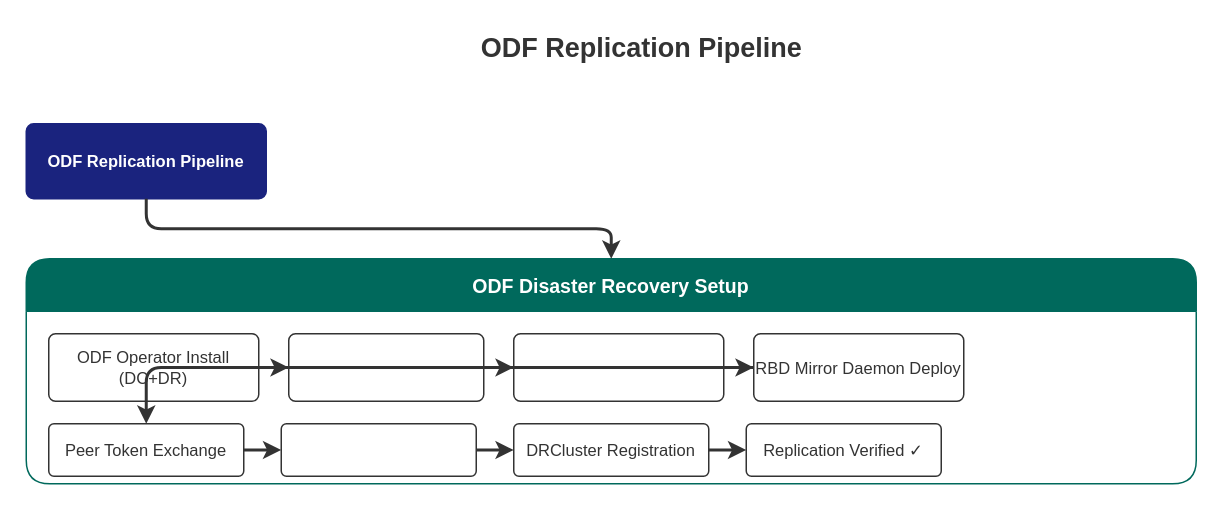
This 1223x510 diagram has some shape labels left out. Each missing label, with the centre of its shape:
"CephBlockPool Mirroring Enable" belongs at pixel 618 366.
"DRPolicy Creation" belongs at pixel 378 449.
"StorageCluster Creation" belongs at pixel 385 366.
